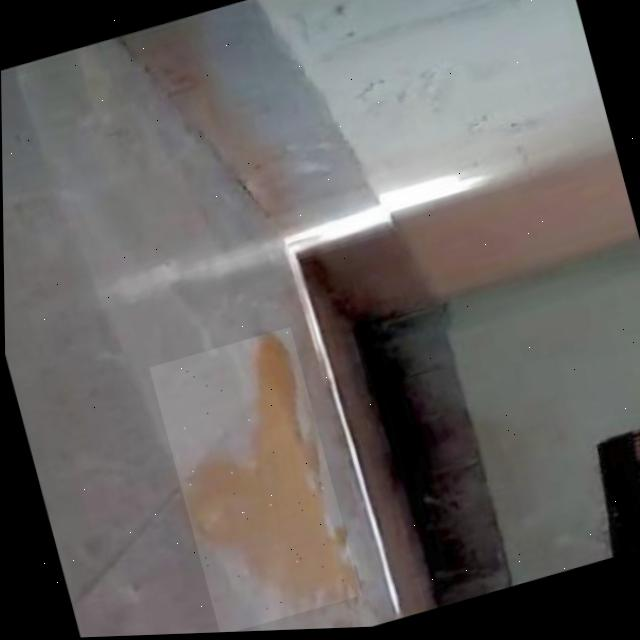spillage: (182, 336, 354, 605)
